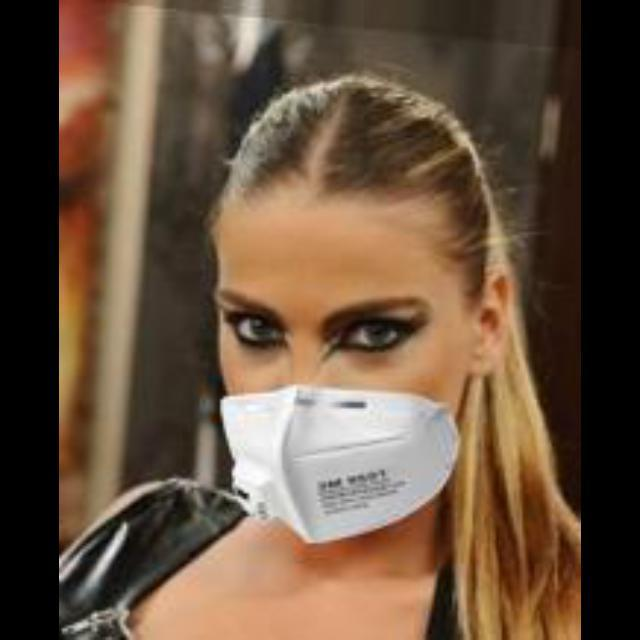suspicion: (148, 85, 554, 537)
